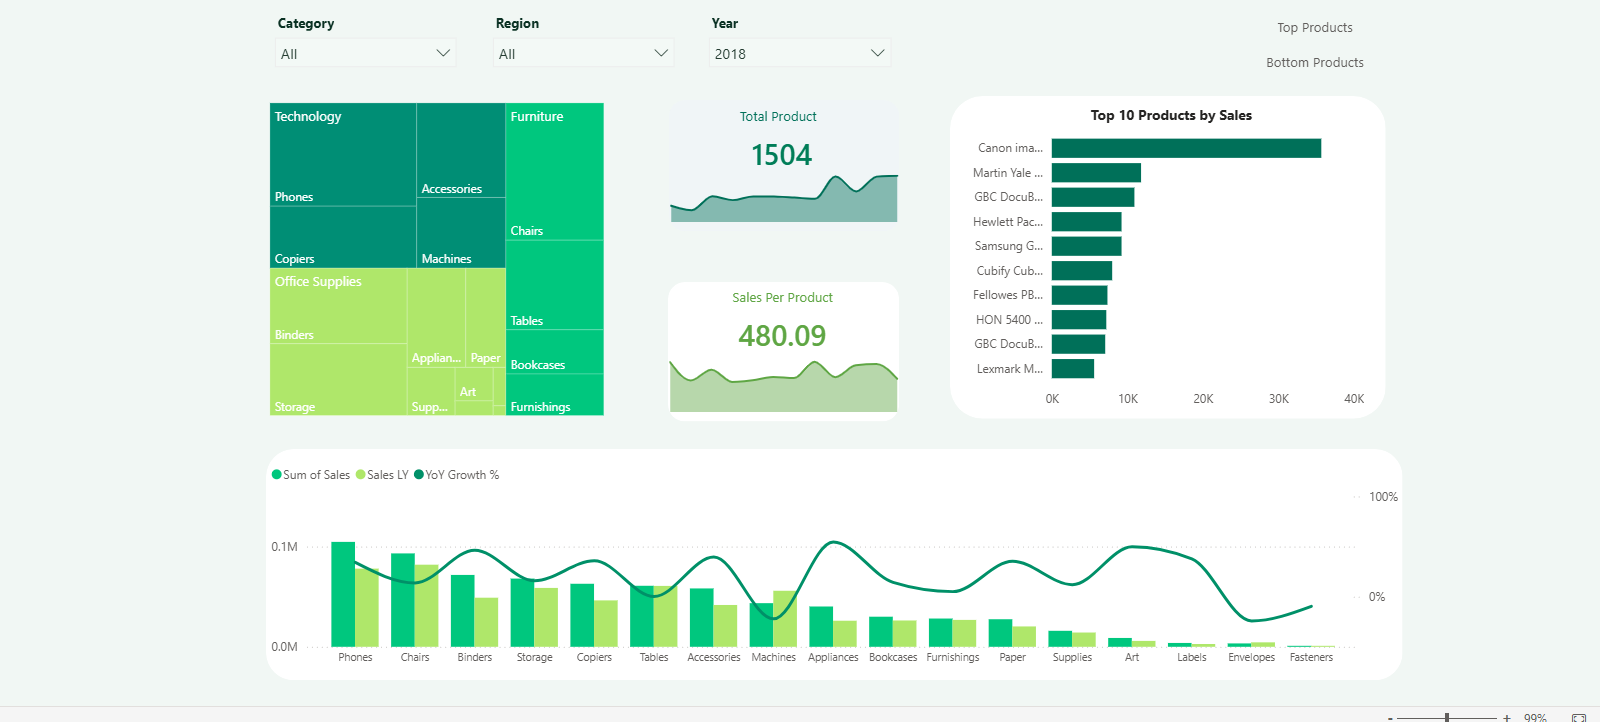

The page's visual inventory and layout, read from the dashboard file:
{"tool":"powerbi","page":{"name":"Product Analysis","canvas":[1280,720],"ordinal":1},"visuals":[{"type":"slicer","fields":{"Values":["train.Category"]},"box":[98.1,13.8,204,62.6],"z":0,"group":"g6"},{"type":"actionButton","box":[1103.1,13.8,117.6,35.1],"z":0,"group":"g5"},{"type":"shape","box":[791.5,102.7,441.4,326.8],"z":0,"group":"g3"},{"type":"treemap","fields":{"Group":["train.Category"],"Values":["train.Total Sales"],"Details":["train.Sub-Category"]},"box":[98.1,103.8,348.5,326.5],"z":0},{"type":"shape","box":[507.4,106.4,233.2,133],"z":0,"group":"g1"},{"type":"shape","box":[506.3,290.3,234.1,141.4],"z":0,"group":"g2"},{"type":"shape","box":[99,459.6,1151.1,234.4],"z":0,"group":"g4"},{"type":"slicer","fields":{"Values":["train.Region"]},"box":[319,13.8,204,62.6],"z":1000,"group":"g6"},{"type":"actionButton","box":[1103.1,48.9,117.6,35.1],"z":1000,"group":"g5"},{"type":"group","id":"g1","title":"Group 1","box":[496.2,106.4,254.5,133],"z":1000},{"type":"textbox","box":[794.2,106.7,442.1,41.5],"z":1000,"group":"g3"},{"type":"lineChart","fields":{"Y":["train.Total Product Solds"],"Category":["DateTable.Month-Year"]},"box":[496.2,168.8,255.6,66.6],"z":1000,"group":"g1"},{"type":"lineChart","fields":{"Y":["train.Sales per Product"],"Category":["DateTable.Month-Year"]},"box":[495.1,356.7,256.6,70.8],"z":1000,"group":"g2"},{"type":"lineClusteredColumnComboChart","fields":{"Category":["train.Sub-Category"],"Y":["Sum(train.Sales)","train.Sales LY"],"Y2":["train.YoY Growth %"]},"box":[99,465.8,1152,223.2],"z":1000,"group":"g4"},{"type":"slicer","fields":{"Values":["DateTable.Year"]},"box":[538,13.8,204.6,62.6],"z":2000,"group":"g6"},{"type":"cardVisual","fields":{"Data":["train.Total Product Solds"]},"box":[504.8,126.8,233.4,65.3],"z":2000,"group":"g1"},{"type":"group","id":"g2","title":"Group 3","box":[495.1,290.3,255.6,137.6],"z":2000},{"type":"cardVisual","fields":{"Data":["train.Sales per Product"]},"box":[495.9,305.4,252.8,72.2],"z":2000,"group":"g2"},{"type":"group","id":"g3","title":"Group 5","box":[791.5,102.7,445.4,327.7],"z":3000},{"type":"textbox","box":[498.5,108.2,239.6,44.3],"z":3000,"group":"g1"},{"type":"clusteredBarChart","fields":{"Category":["train.Product Name"],"Y":["train.Total Sales"]},"box":[797.4,123.4,417.8,304.9],"z":3000,"group":"g3"},{"type":"textbox","box":[502.2,291.5,240.5,65.2],"z":3000,"group":"g2"},{"type":"group","id":"g4","title":"Group 6","box":[99,459.6,1152,234.4],"z":4000},{"type":"group","id":"g5","title":"Group 8","box":[1103.1,13.8,117.7,70.4],"z":6000},{"type":"group","id":"g6","title":"Group 9","box":[98.1,13.8,643.9,62.3],"z":7000}]}

Visuals, with their boxes on the page's 1280x720 design canvas (x1, y1, x2, y2). These are canvas units, not pixel positions in the 1600x722 screenshot, which may show the page scaled, cropped or inside an application window:
slicer - train.Category: detection(98, 14, 302, 76)
actionButton: detection(1103, 14, 1221, 49)
shape: detection(792, 103, 1233, 430)
treemap - train.Category x train.Total Sales: detection(98, 104, 447, 430)
shape: detection(507, 106, 741, 239)
shape: detection(506, 290, 740, 432)
shape: detection(99, 460, 1250, 694)
slicer - train.Region: detection(319, 14, 523, 76)
actionButton: detection(1103, 49, 1221, 84)
"Group 1" group: detection(496, 106, 751, 239)
textbox: detection(794, 107, 1236, 148)
lineChart - train.Total Product Solds x DateTable.Month-Year: detection(496, 169, 752, 235)
lineChart - train.Sales per Product x DateTable.Month-Year: detection(495, 357, 752, 428)
lineClusteredColumnComboChart - train.Sub-Category x Sum(train.Sales): detection(99, 466, 1251, 689)
slicer - DateTable.Year: detection(538, 14, 743, 76)
cardVisual - train.Total Product Solds: detection(505, 127, 738, 192)
"Group 3" group: detection(495, 290, 751, 428)
cardVisual - train.Sales per Product: detection(496, 305, 749, 378)
"Group 5" group: detection(792, 103, 1237, 430)
textbox: detection(498, 108, 738, 152)
clusteredBarChart - train.Product Name x train.Total Sales: detection(797, 123, 1215, 428)
textbox: detection(502, 292, 743, 357)
"Group 6" group: detection(99, 460, 1251, 694)
"Group 8" group: detection(1103, 14, 1221, 84)
"Group 9" group: detection(98, 14, 742, 76)
